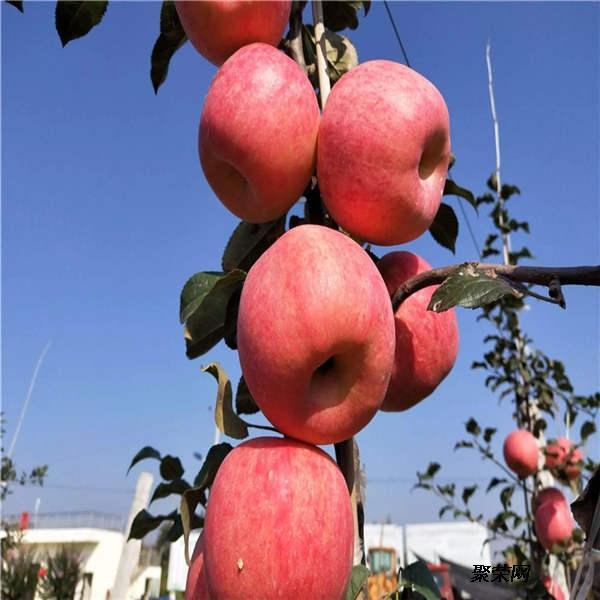apple: (237, 226, 397, 445), (198, 437, 363, 600), (314, 58, 455, 245), (196, 38, 320, 220), (377, 250, 459, 413), (167, 1, 297, 63), (533, 501, 573, 551), (501, 428, 539, 477)
